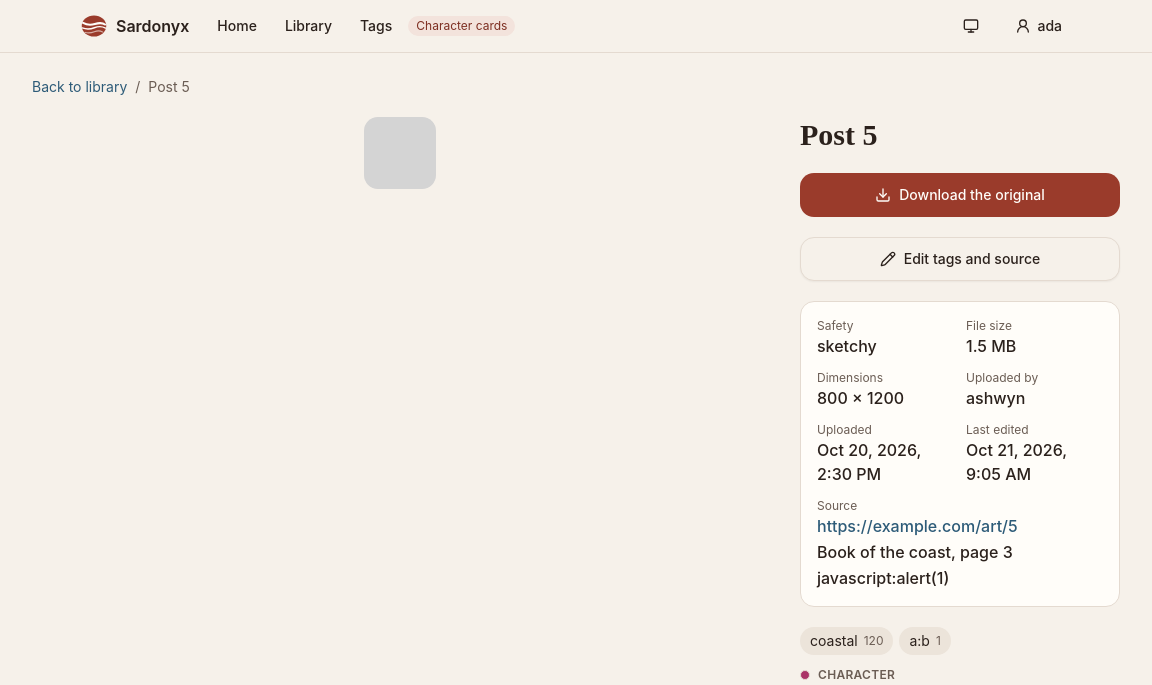
Scenario: what is offered › shows each field only to a rank that may change it
Step 1. Click the button "Edit tags and source" → (960, 259), box [800,237,1120,281]
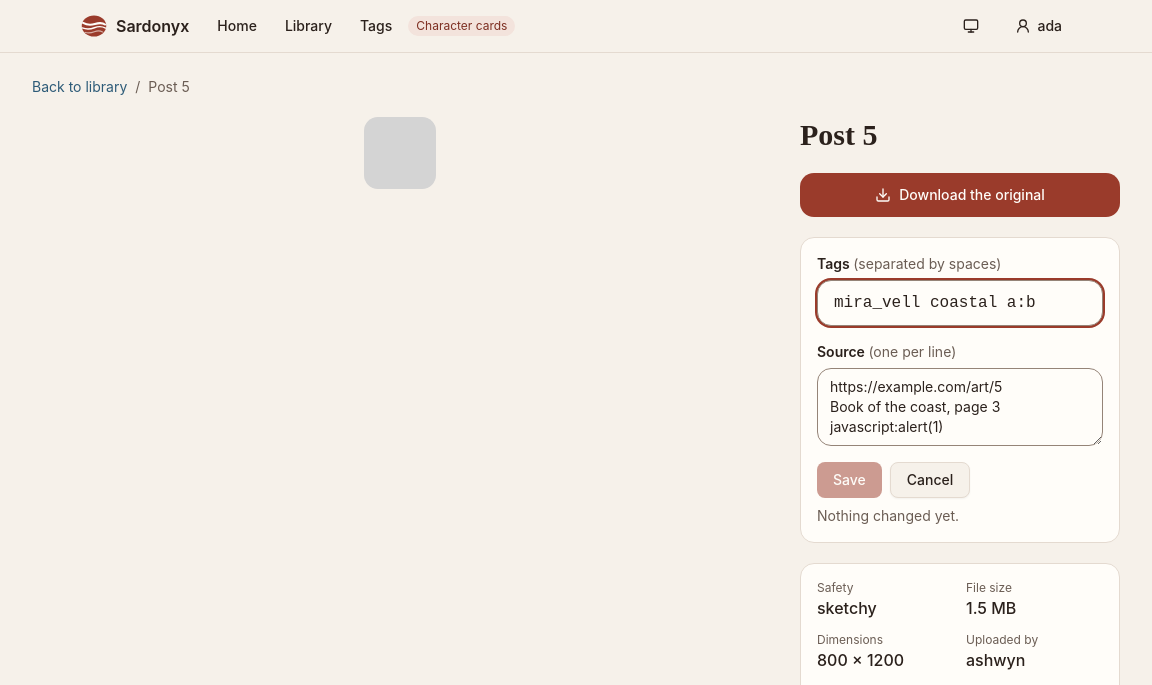
Expected: the text box labelled "Tags (separated by spaces)" holds "mira_vell coastal a:b", [817,280,1103,326]
Expected: the text box labelled "Source (one per line)" is shown, [817,368,1103,446]
